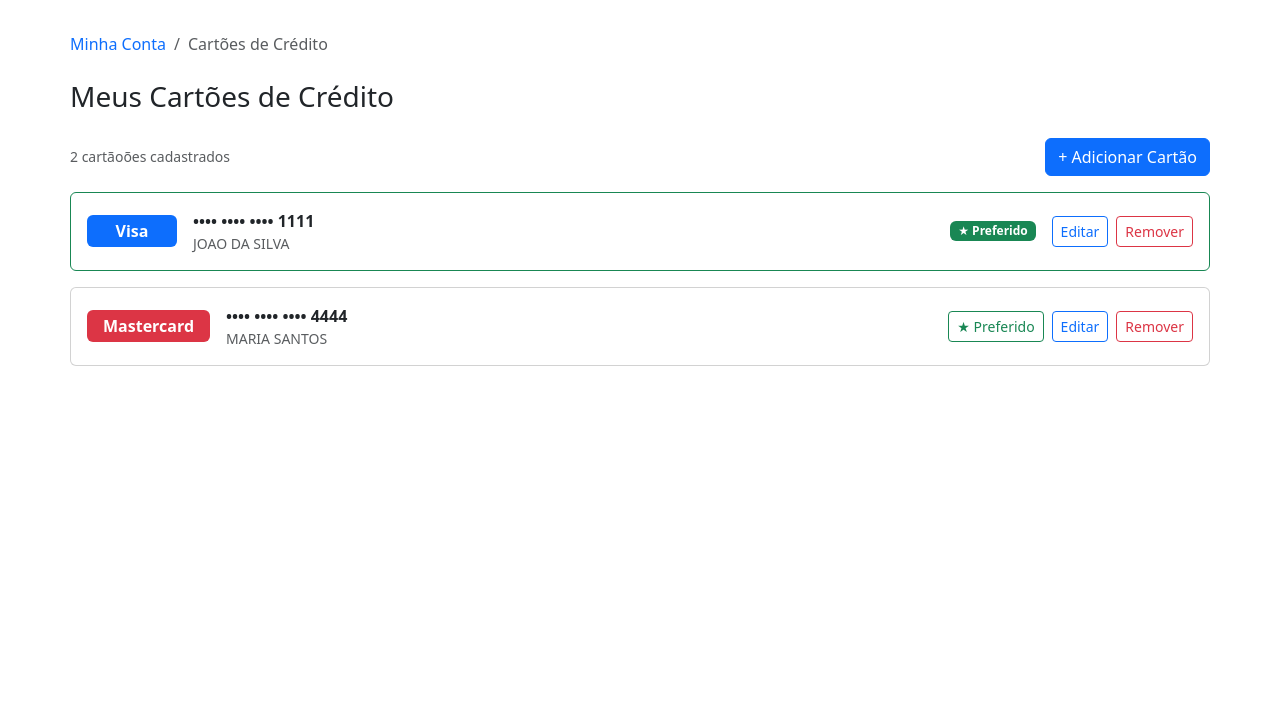
Test: CreditCardsPage - RF0027: Cadastro de cartões de crédito › should require printed name on card (RN0024)
Click the button with test id "credit-card-add-btn" at {"x": 1128, "y": 157}, box [1045,138,1210,176]
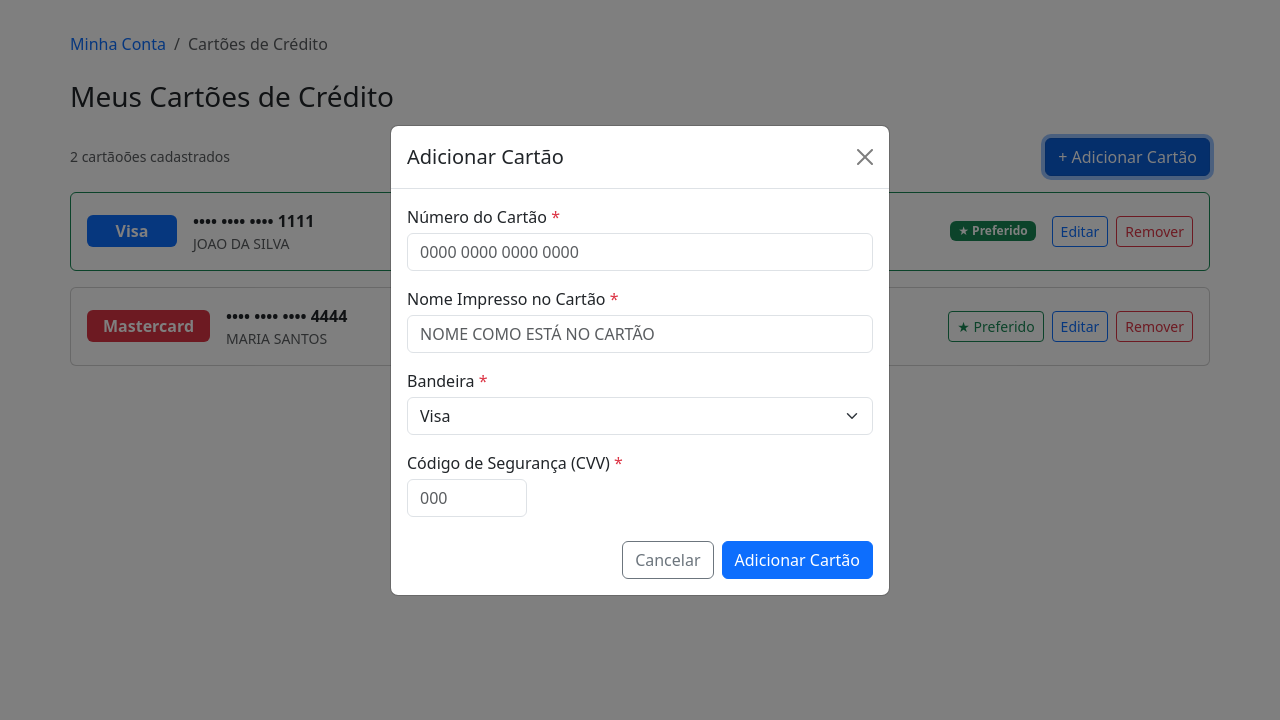
Now the dialog with test id "credit-card-form-modal" is shown
# Leave name empty
Type "4111111111111111" into the field with test id "credit-card-numero" at {"x": 640, "y": 252}, box [407,232,873,270]
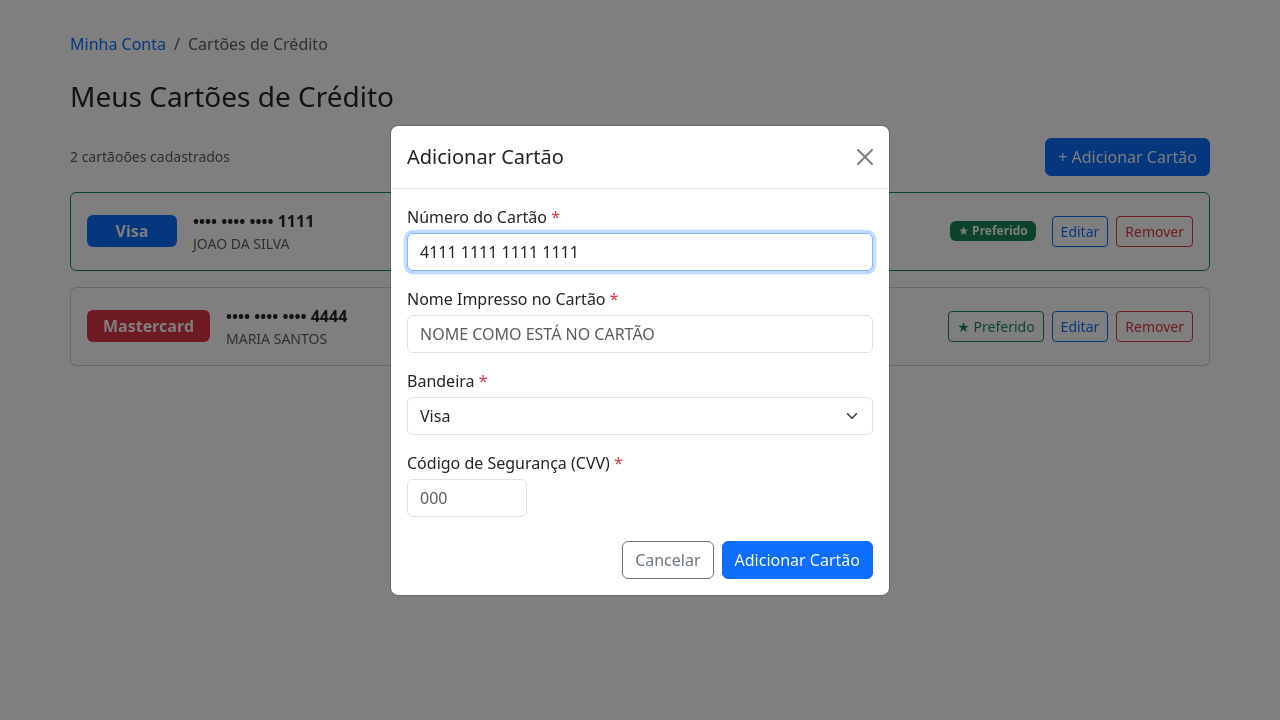
Type "123" into the field with test id "credit-card-cvv" at {"x": 467, "y": 498}, box [407,478,527,516]
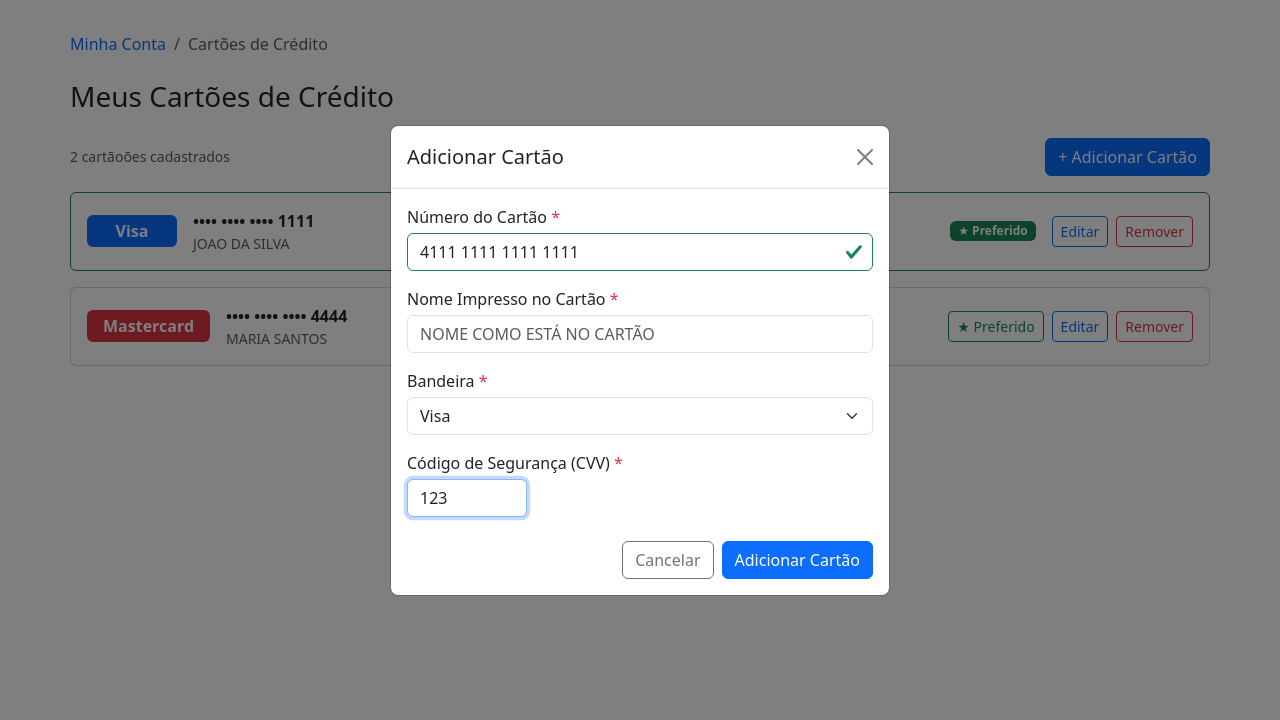
Click the button with test id "credit-card-form-submit" at {"x": 797, "y": 560}, box [722,540,873,578]
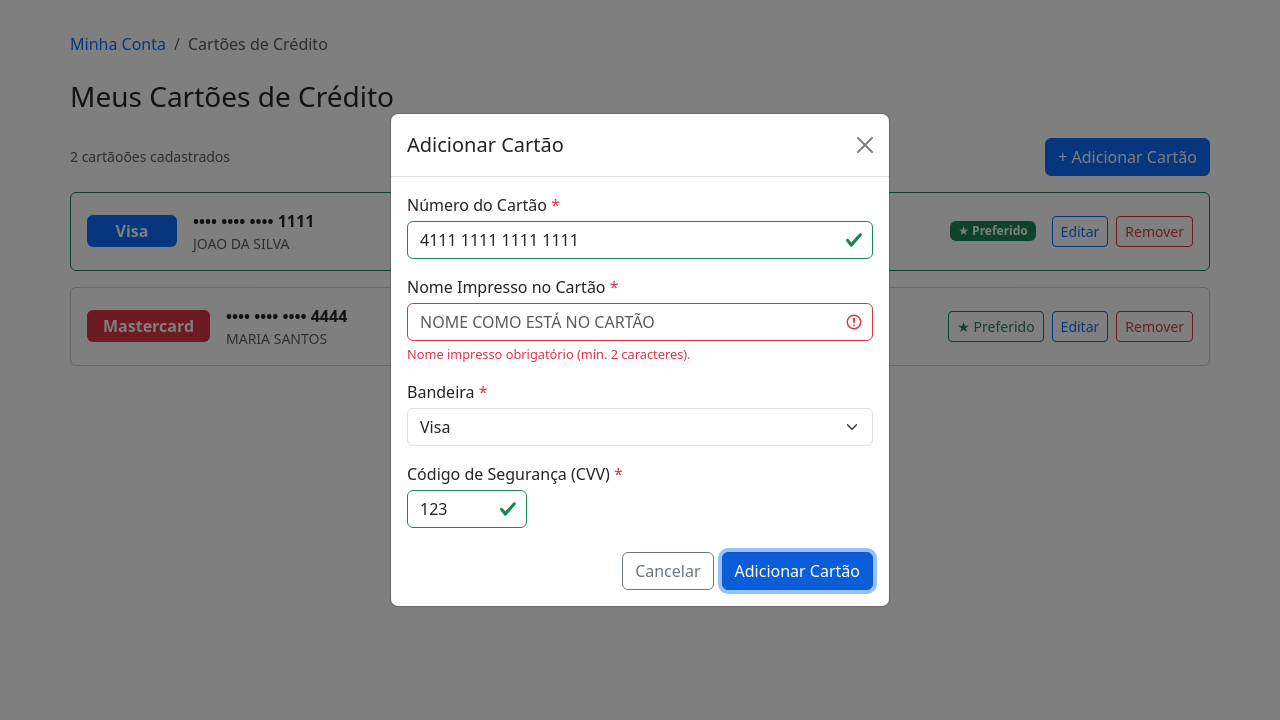
Now the text with test id "credit-card-nome-error" shows "Nome impresso obrigatório", box [407,345,690,363]
